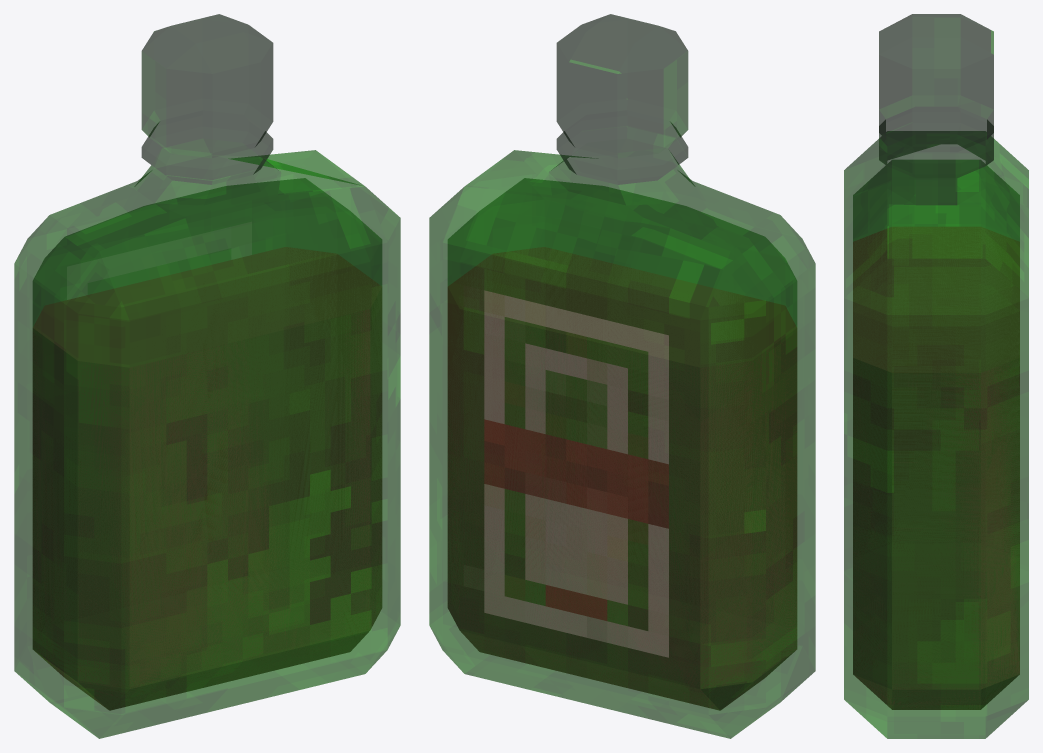
Rendered from Shot.fbx.
3 renders of one model, left to right at view 1: azimuth 30°, elevation 25°; view 2: azimuth 150°, elevation 25°; view 3: azimuth 270°, elevation 25°, orthographic.
Parts seen in each view (by area): view 1: Shot; view 2: Shot; view 3: Shot.
Part boxes in pixels (bbox=[...]): Shot: bbox=[14, 14, 400, 738]; Shot: bbox=[429, 14, 815, 738]; Shot: bbox=[844, 14, 1028, 738].
Size of the model in its own units: 5.48 by 10.26 by 2.65.
